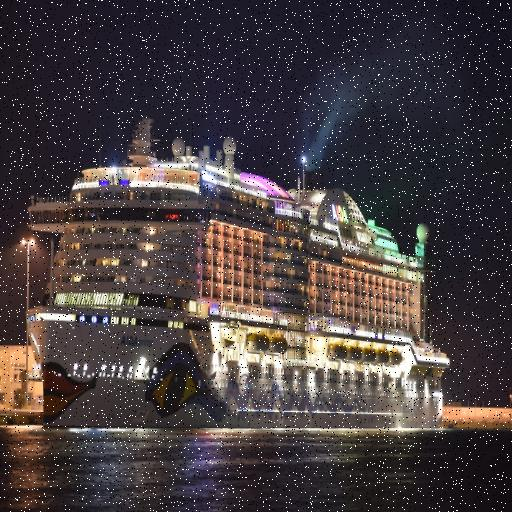cruises: (21, 115, 452, 439)
